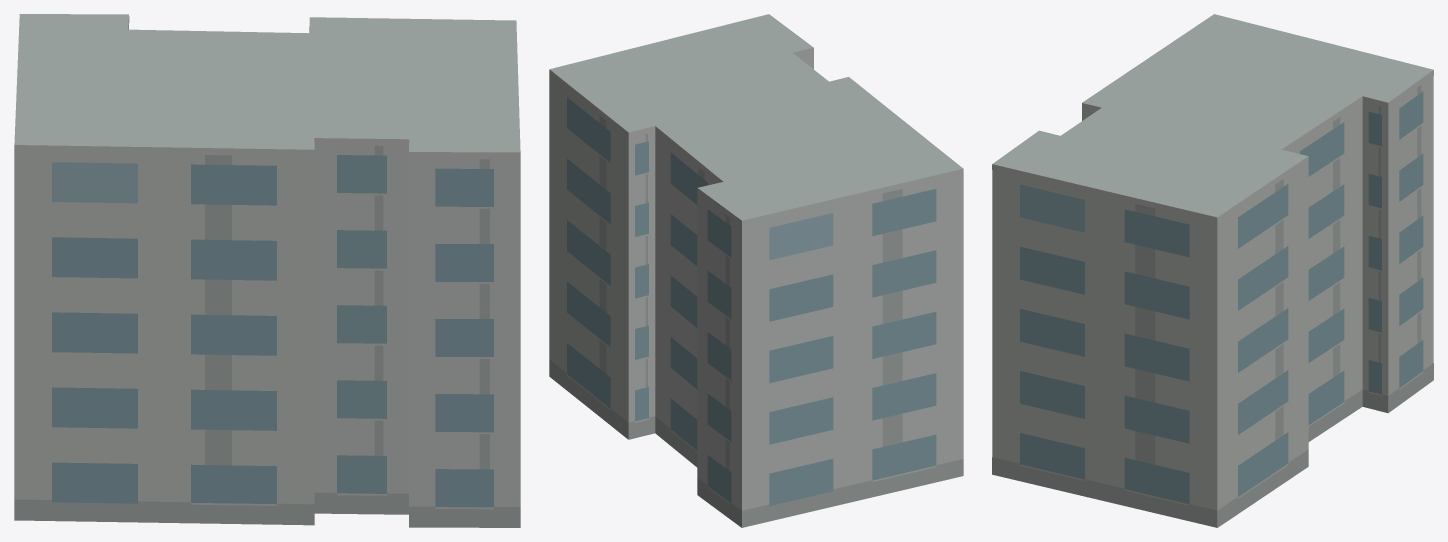
File: survey-upis-32674965.glb
3 renders of one model, left to right at view 1: azimuth 30°, elevation 25°; view 2: azimuth 150°, elevation 25°; view 3: azimuth 270°, elevation 25°, orthographic. The views are drawn at different scales.
Visible parts, largest first — view 1: survey-upis-32674965.tmp; view 2: survey-upis-32674965.tmp; view 3: survey-upis-32674965.tmp.
Part boxes in pixels (x1=…): survey-upis-32674965.tmp: x1=14, y1=14, x2=520, y2=527; survey-upis-32674965.tmp: x1=549, y1=14, x2=963, y2=527; survey-upis-32674965.tmp: x1=992, y1=14, x2=1433, y2=527.
Size of the model in its own units: 18.41 by 13.1 by 16.9.
